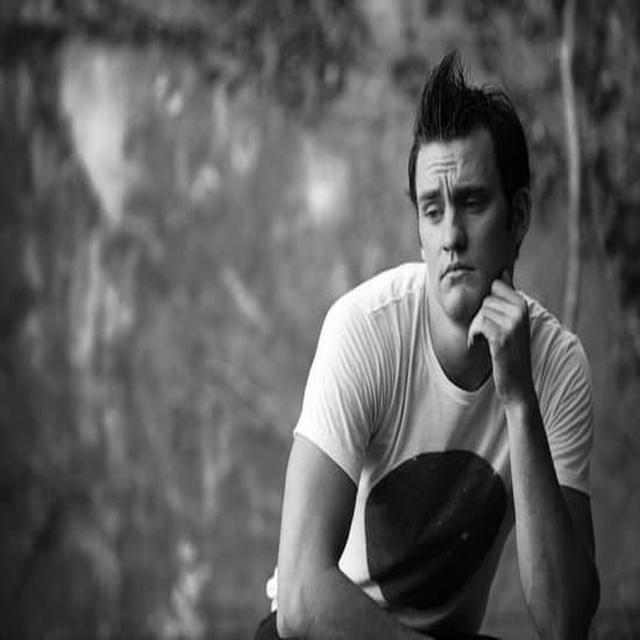Sadness: (418, 138, 503, 320)
